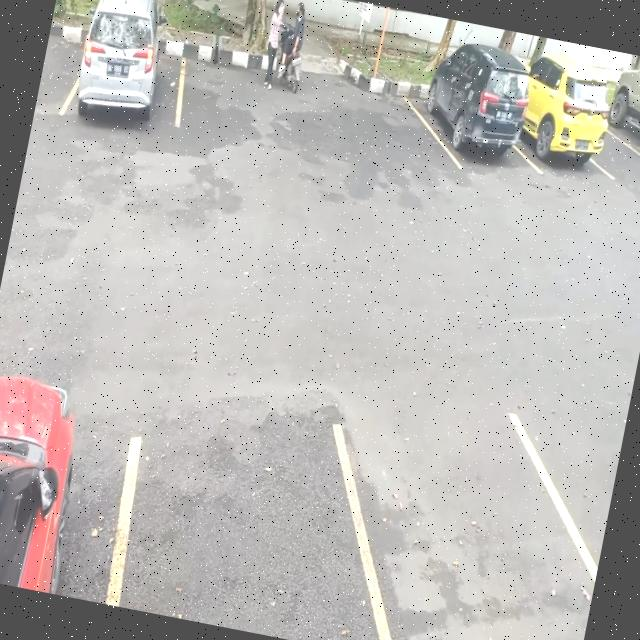empty: (287, 364, 622, 640), (99, 345, 412, 640)
occupied: (64, 14, 195, 135), (515, 60, 618, 187), (418, 61, 534, 170)
